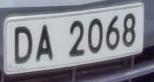0: (85, 13, 106, 55)
2: (67, 13, 86, 66)
6: (104, 12, 122, 55)
8: (121, 10, 138, 53)
A: (34, 22, 58, 65)
D: (12, 22, 36, 67)
